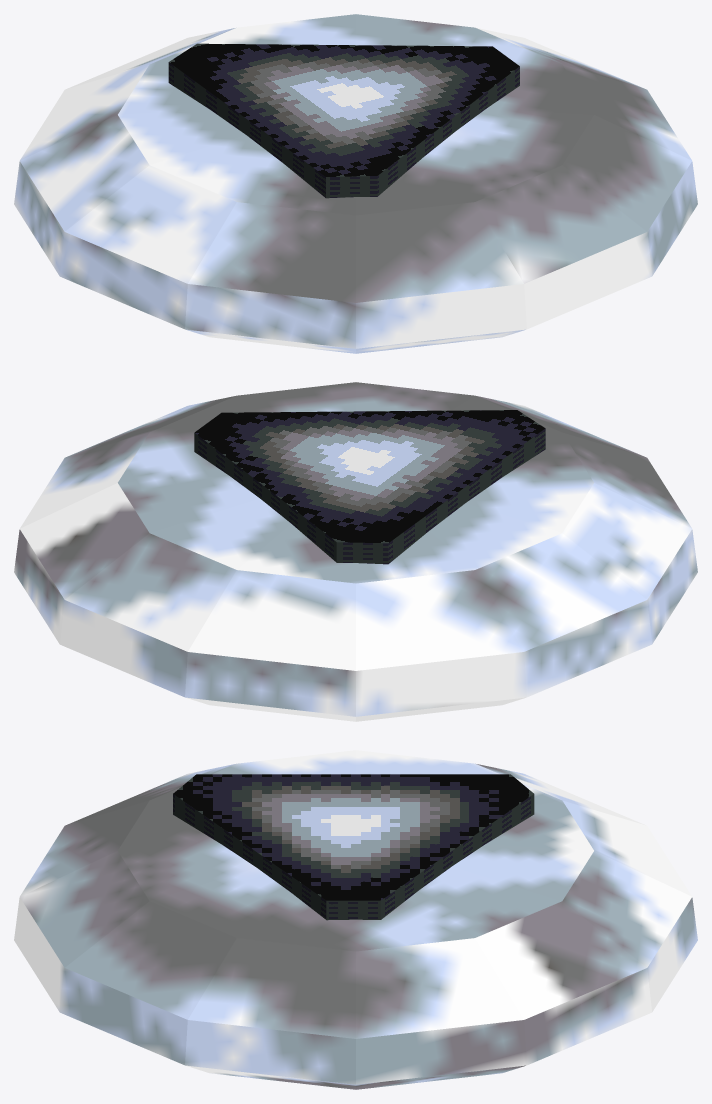
File: Tutorial_Pointer.glb
3 renders of one model, top to bottom at view 1: azimuth 30°, elevation 25°; view 2: azimuth 150°, elevation 25°; view 3: azimuth 270°, elevation 25°, orthographic.
Visible parts, largest first — view 1: TutPointer, Cube.001; view 2: TutPointer, Cube.001; view 3: TutPointer, Cube.001.
Boxes of the visible parts, box(x1,y1,x2,y2) form: TutPointer: box(14, 14, 697, 353); Cube.001: box(168, 43, 519, 198); TutPointer: box(14, 382, 697, 721); Cube.001: box(194, 410, 545, 564); TutPointer: box(14, 750, 697, 1089); Cube.001: box(173, 774, 534, 920).
Size of the model in its own units: 1.71 by 0.3816 by 1.71.
2 materials, 2 textured.
